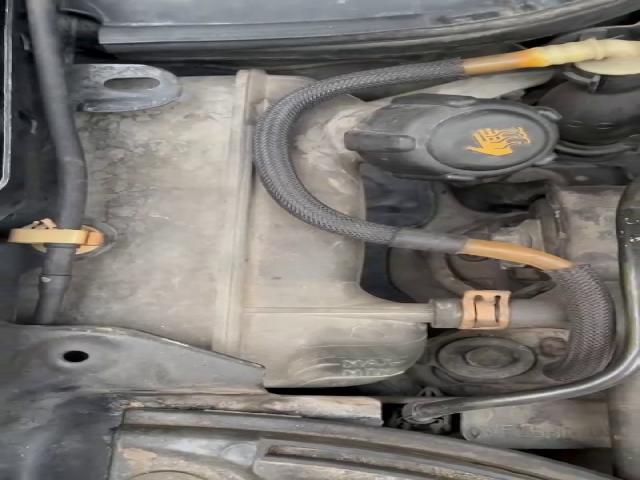antifreeze_tank: (68, 70, 444, 387), (292, 94, 559, 217)
